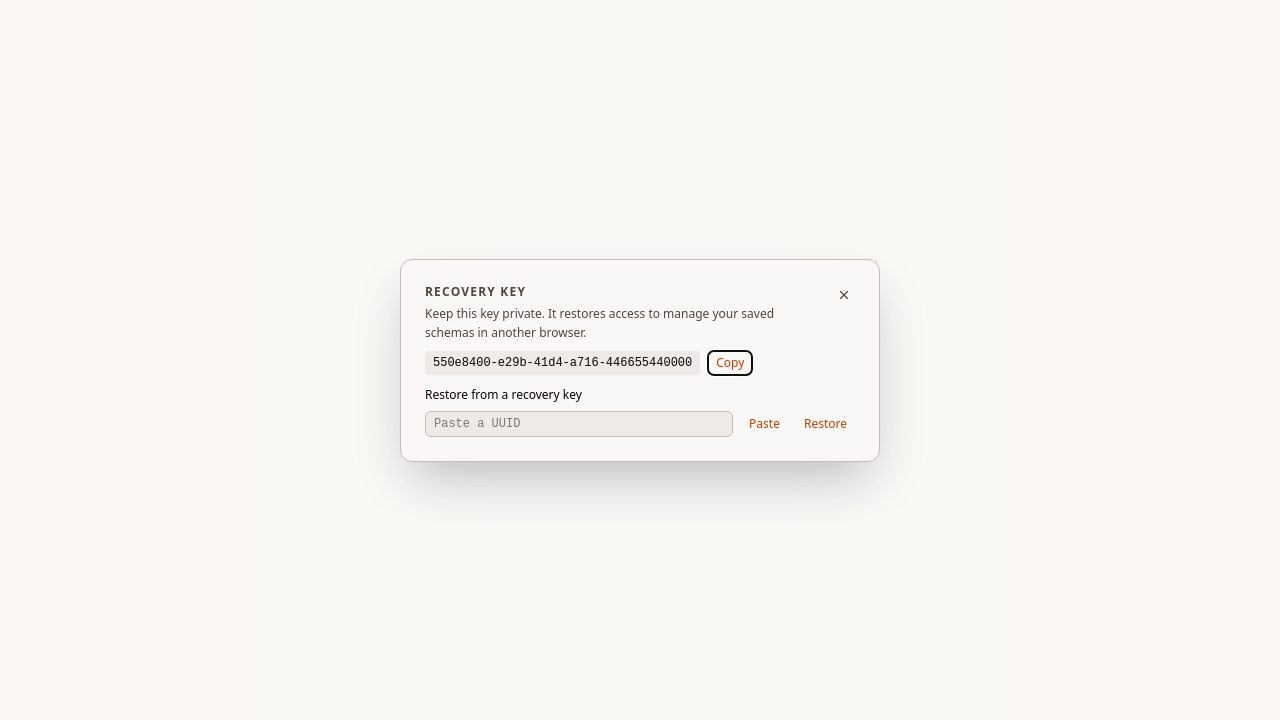
Scenario: SchemaRecoveryDialog › pastes a recovery key from the clipboard
The image size is (1280, 720).
Click the button "Paste".
click(764, 424)  # box [741,412,788,436]
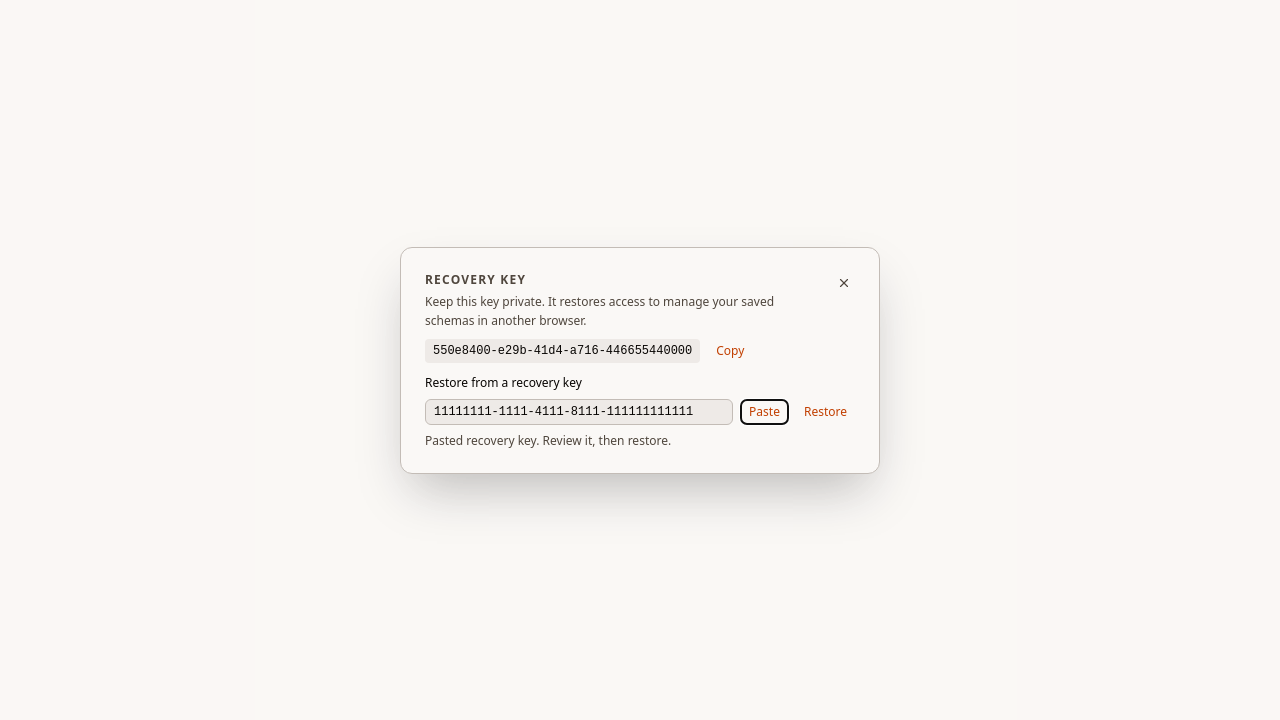
Result: the field labelled "Restore from a recovery key" holds "11111111-1111-4111-8111-111111111111" at [425,398,733,424]
